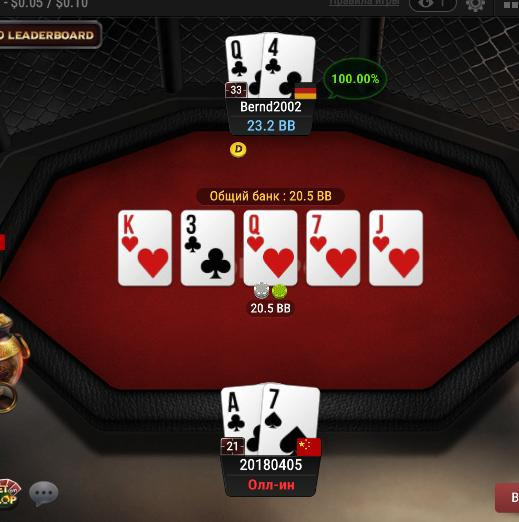3c: (180, 211, 234, 286)
4c: (261, 31, 312, 100)
7h: (306, 209, 359, 286)
7s: (261, 384, 319, 456)
Ac: (220, 385, 262, 457)
Jh: (370, 211, 423, 286)
Kh: (119, 211, 173, 286)
Qc: (225, 34, 264, 98)
Qh: (244, 210, 297, 286)
